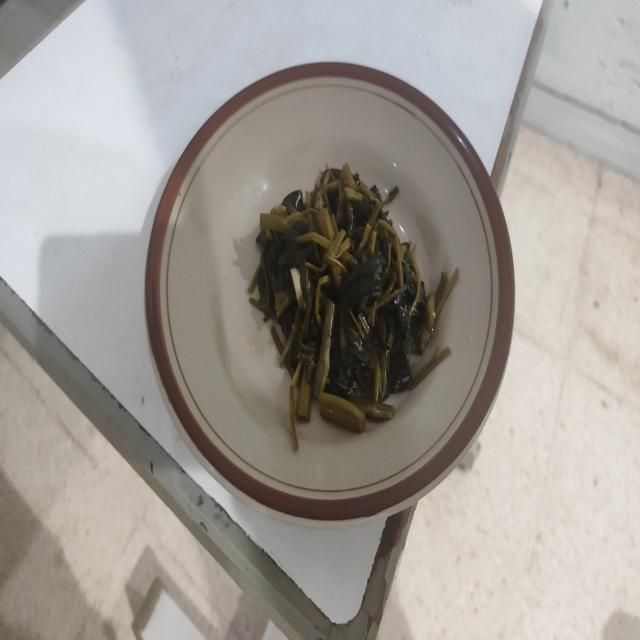tumis_kangkung: (248, 163, 459, 450)
